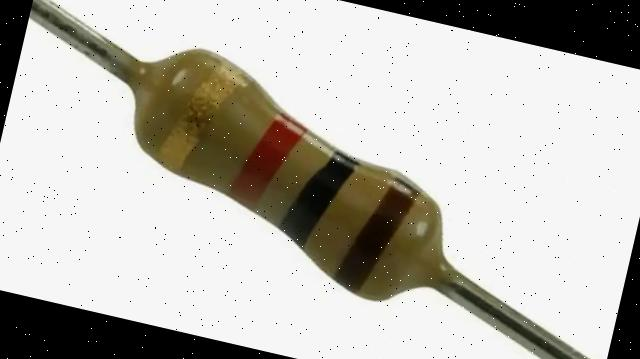black: (277, 148, 361, 249)
brown: (332, 172, 422, 293)
gold: (153, 57, 254, 174)
red: (226, 109, 308, 213)
resistor: (71, 0, 486, 359)
